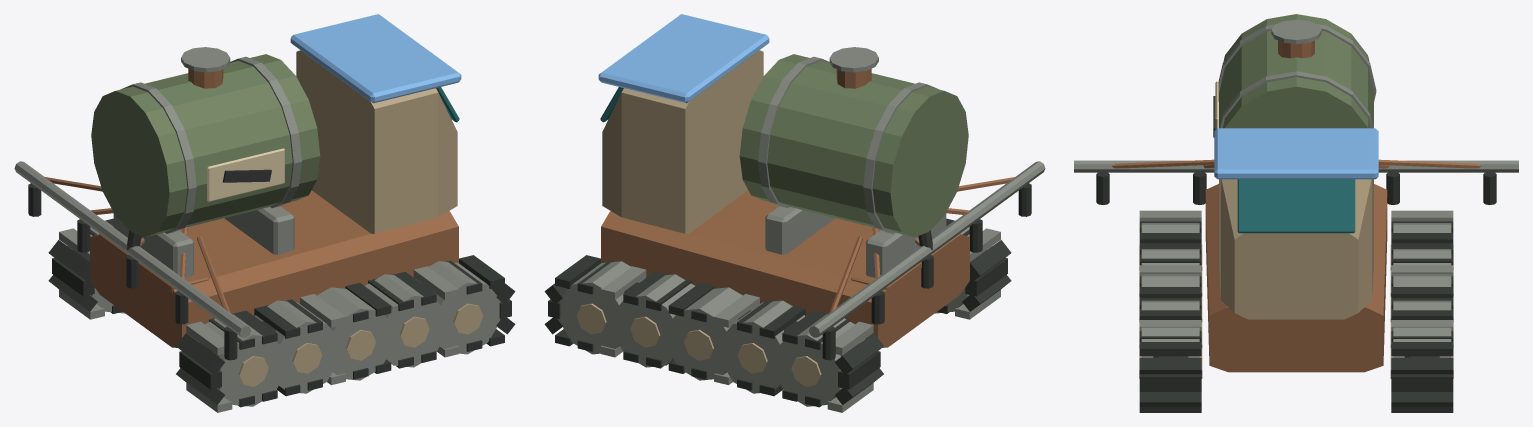
Rendered from sprayer.glb.
The picture shows the model from 3 angles, left to right: view 1: azimuth 30°, elevation 25°; view 2: azimuth 150°, elevation 25°; view 3: azimuth 270°, elevation 25°; orthographic projection.
Parts seen in each view (by area): view 1: sprayer; view 2: sprayer; view 3: sprayer.
Boxes of the visible parts, x1,y1,x2,y2 form: sprayer: (14, 14, 515, 412); sprayer: (544, 14, 1045, 412); sprayer: (1074, 14, 1518, 412).
Bounding box in the file's own units: 1.9 × 1.67 × 2.4.
